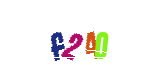2: (34, 0, 114, 80)
4: (40, 0, 120, 80)
F: (17, 0, 97, 80)
O: (61, 0, 141, 80)
